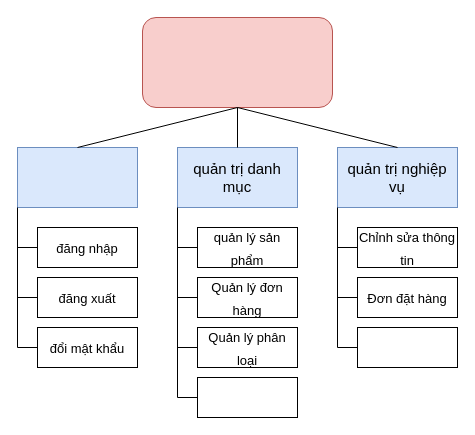
Image size: 475x435. Some labels were removed from this diagram. The shapes that lost their labels are listed below. From the top down, each one's box as (x1, y1, x2, y2) in pixels, then its label:
(142, 16, 332, 108): Người bán
(16, 146, 138, 208): quản trị hệ thống
(356, 326, 458, 368): Xửa lí đơn hàng
(196, 376, 298, 418): Người dùng
